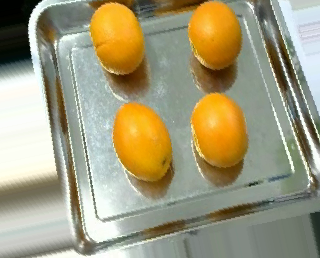Orange: (113, 101, 173, 183), (190, 91, 247, 169), (90, 2, 146, 76), (187, 1, 243, 71)
